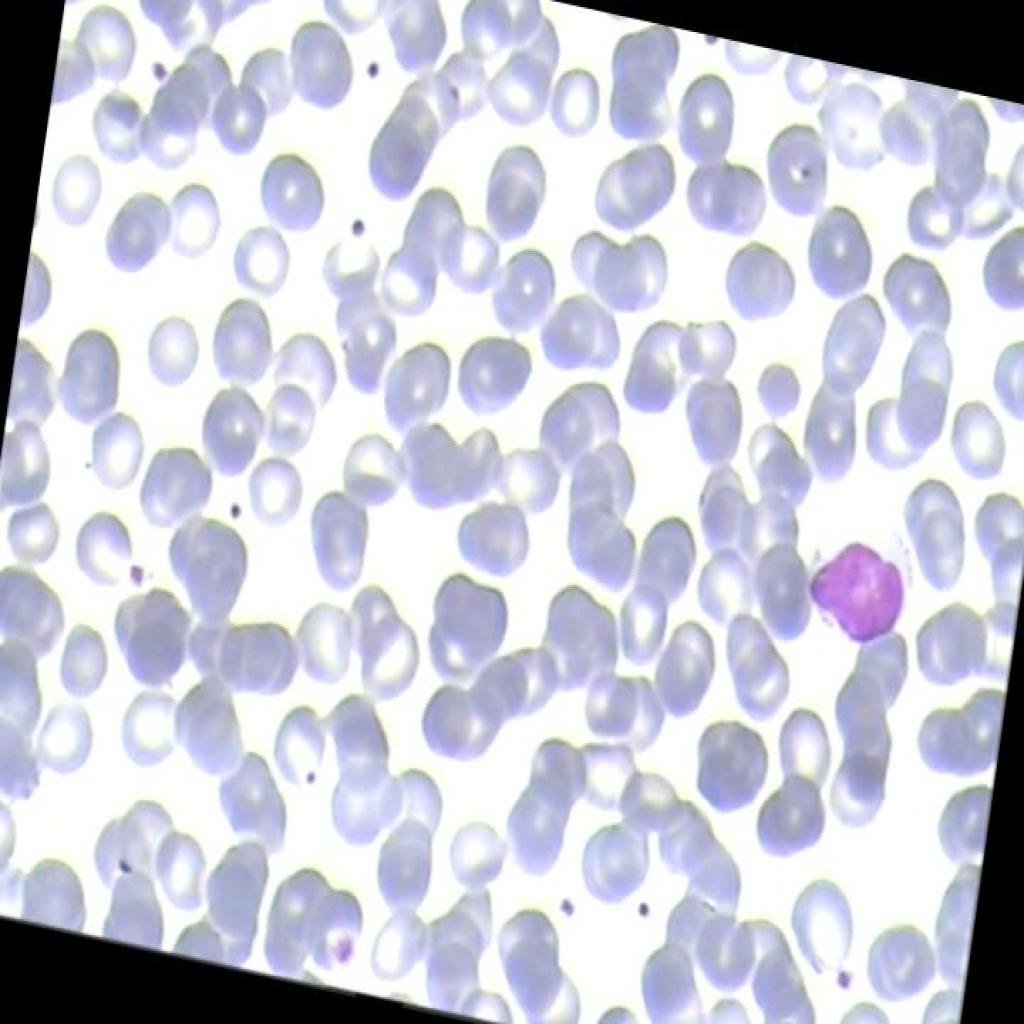Limfosit: (795, 501, 919, 658)
Platelet: (313, 918, 361, 974), (338, 198, 386, 254), (111, 542, 156, 596), (823, 954, 869, 1004), (211, 482, 253, 532), (352, 41, 390, 96), (626, 884, 657, 935), (141, 44, 172, 84), (556, 877, 582, 919)
